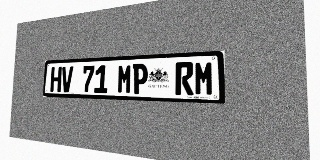1: (94, 65, 108, 93)
7: (81, 65, 95, 93)
H: (50, 67, 62, 92)
M: (194, 61, 214, 96), (117, 64, 132, 94)
P: (132, 63, 148, 94)
R: (175, 62, 194, 95)
V: (61, 66, 73, 92)
